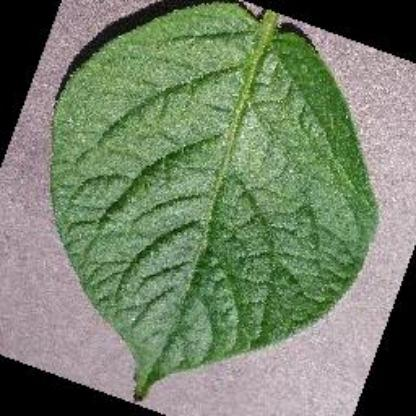Healthy-plant: (48, 2, 384, 404)
